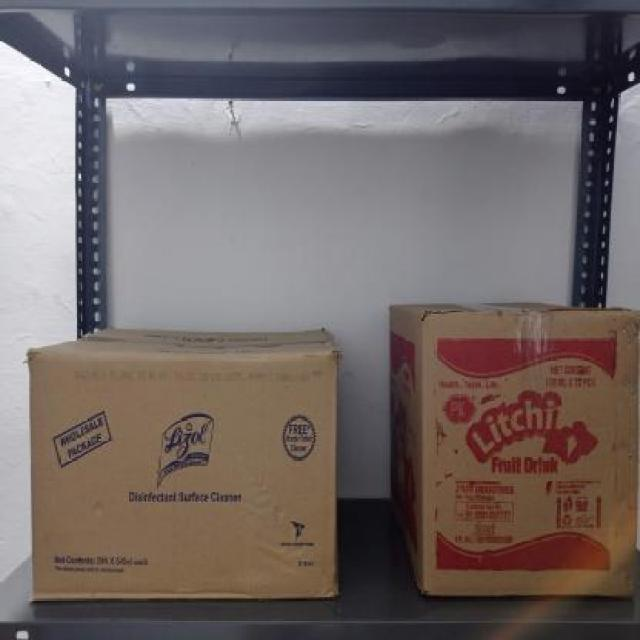box: (30, 352, 338, 603), (420, 313, 637, 604)
